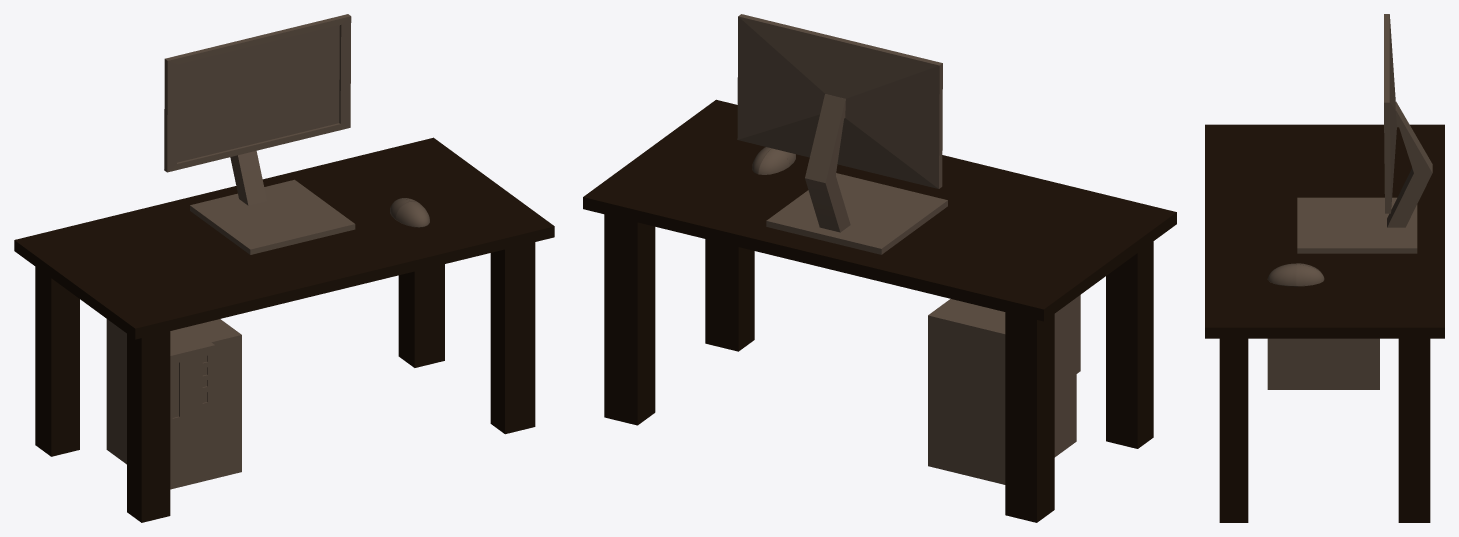
Rendered from Office Furniture.obj.
The picture shows the model from 3 angles, left to right: view 1: azimuth 30°, elevation 25°; view 2: azimuth 150°, elevation 25°; view 3: azimuth 270°, elevation 25°; orthographic projection. The views are drawn at different scales.
Visible parts, largest first — view 1: Computer_Desk, Monitor, PC, Mouse; view 2: Computer_Desk, Monitor, PC, Mouse; view 3: Computer_Desk, Monitor, PC, Mouse.
Part boxes in pixels (left/top/right/bottom): Computer_Desk: left=14, top=137, right=554, bottom=522; Monitor: left=164, top=14, right=355, bottom=254; PC: left=106, top=319, right=241, bottom=489; Mouse: left=390, top=198, right=429, bottom=227; Computer_Desk: left=583, top=99, right=1176, bottom=522; Monitor: left=737, top=14, right=947, bottom=254; PC: left=928, top=295, right=1080, bottom=484; Mouse: left=752, top=147, right=795, bottom=174; Computer_Desk: left=1205, top=124, right=1444, bottom=522; Monitor: left=1297, top=14, right=1432, bottom=253; PC: left=1267, top=338, right=1379, bottom=389; Mouse: left=1267, top=263, right=1324, bottom=286.
Bounding box in the file's own units: 4 × 3.41 × 2.
